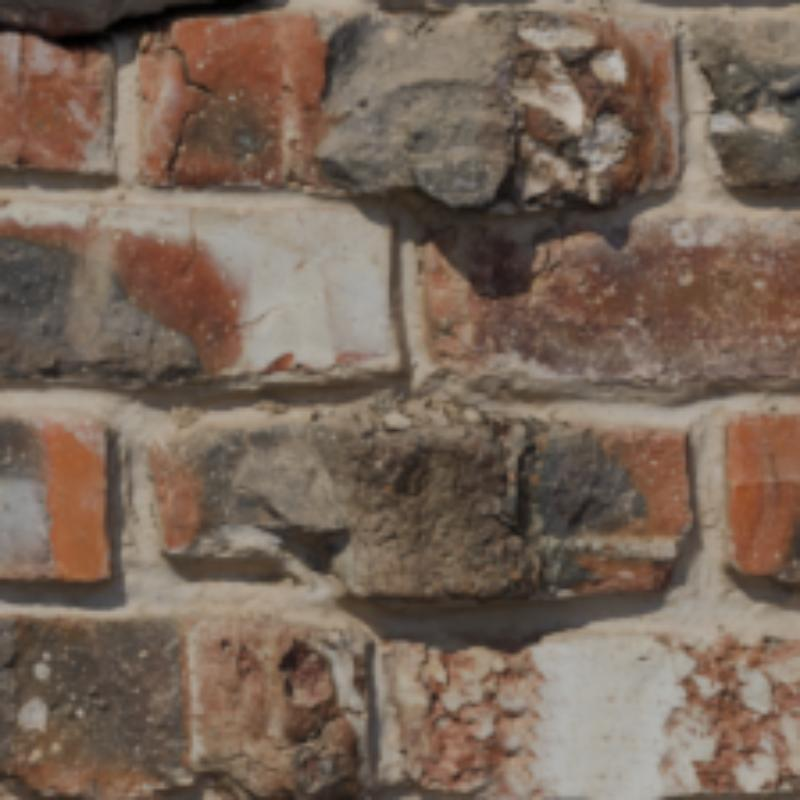pothole: (0, 0, 271, 54), (164, 43, 211, 182)
